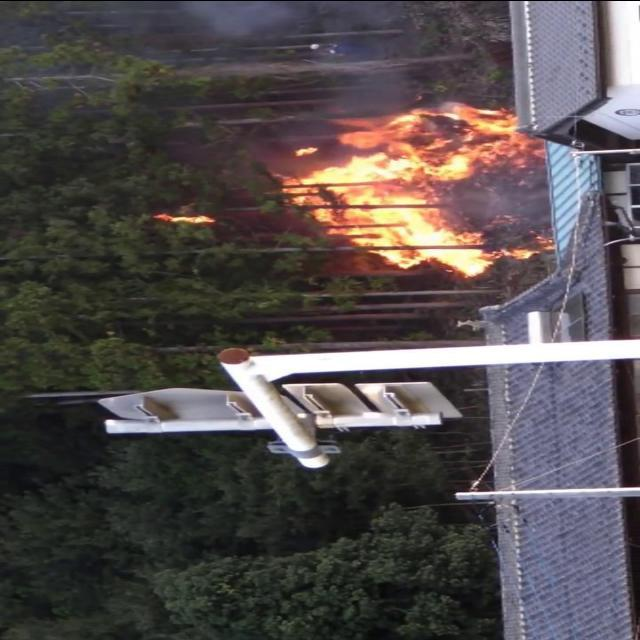Fire: (272, 98, 552, 278), (150, 212, 216, 224)
